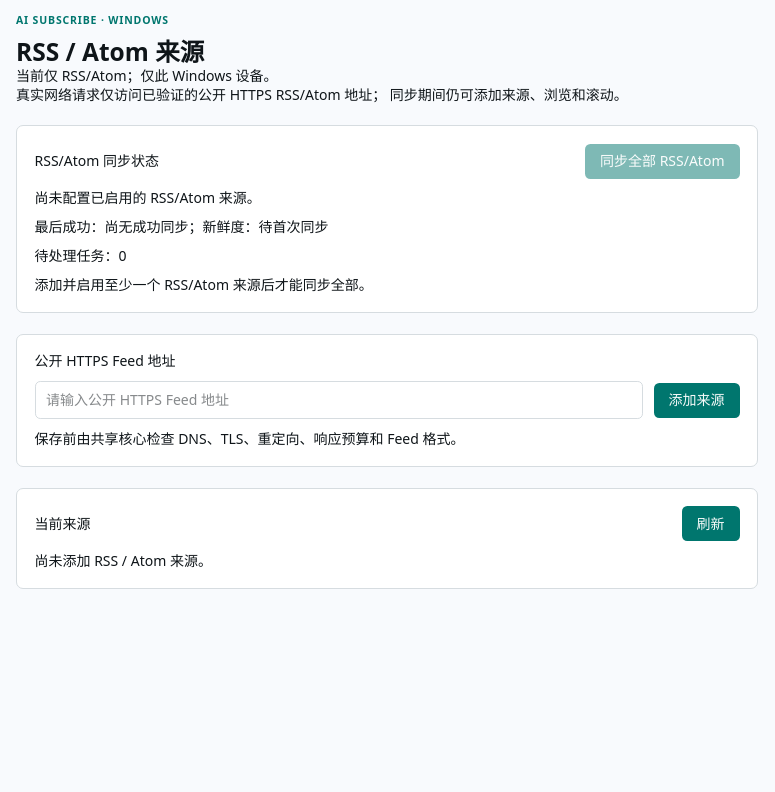
SourcesPage source entry and RSS synchronization › saves an HTTPS RSS source without optimistic insertion and keeps device scope visible
Expected: the text "当前仅 RSS/Atom；仅此 Windows 设备。" is shown, [16,66,278,85]
Expected: the text "尚未添加 RSS / Atom 来源。" is shown, [34,551,212,570]
In the field labelled "公开 HTTPS Feed 地址": (339, 400) [34,381,643,419], type "https://example.com/feed.xml"
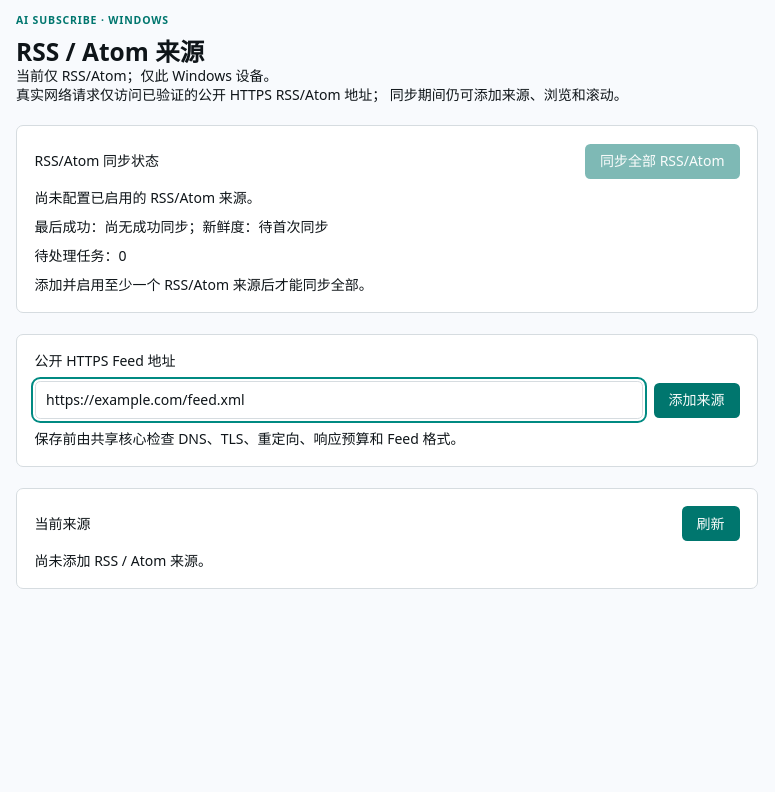
Click the button "添加来源": (696, 400) [654,383,740,418]
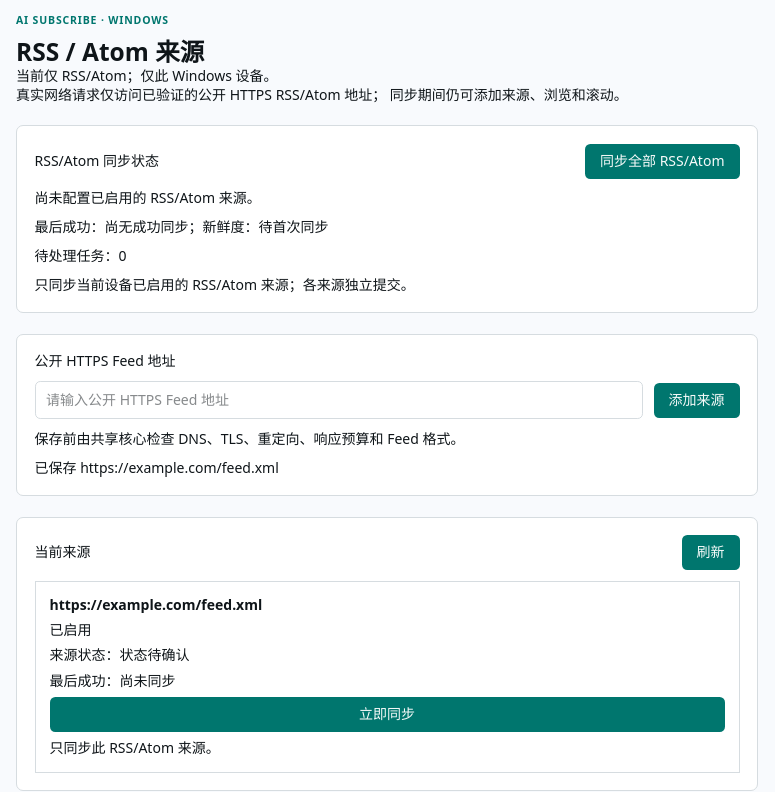
Result: the text "https://example.com/feed.xml" is shown at [50,595,262,614]
